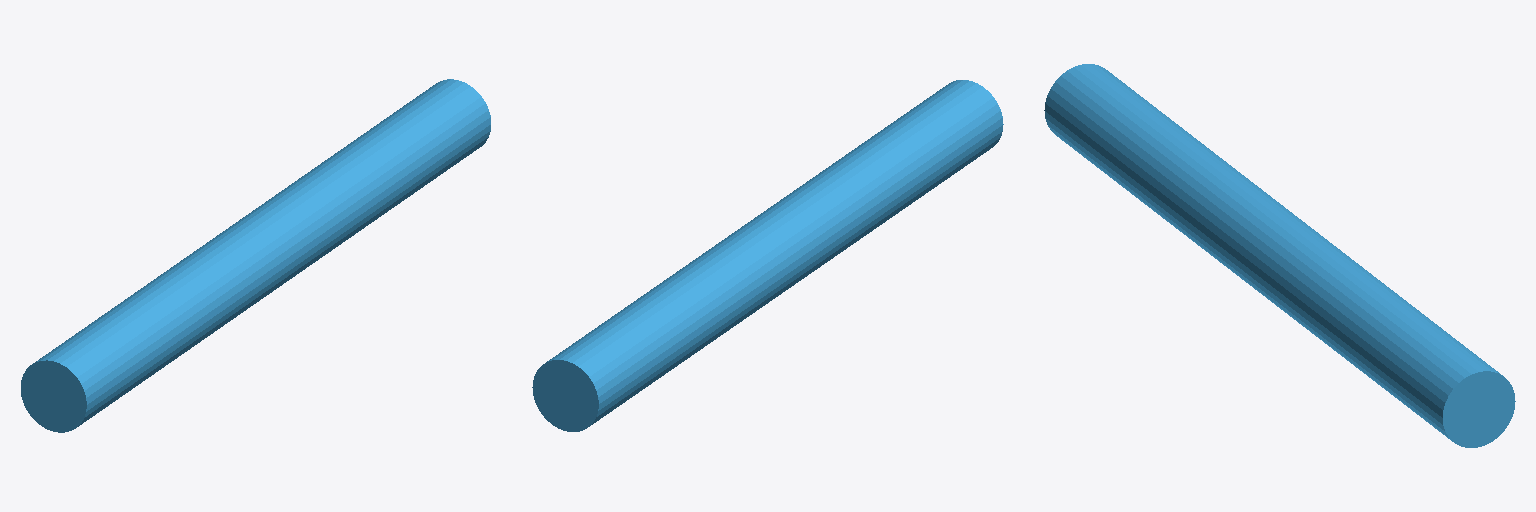
robot.urdf — simple_cylinder:
<robot name="simple_cylinder">
  <link name="world"/>
  <joint name="my_cylinder_joint" type="continuous" >
    <!-- axis is in the parent link frame coordintates -->
    <axis xyz="0 1 0" />
    <parent link="world" />
    <child link="my_cylinder" />
    <!-- initial pose of my_cylinder in the parent frame coordiantes -->
    <origin xyz="0 0 2" rpy="0 1.57 0.5" />
  </joint>
  <link name="my_cylinder">
    <inertial>
      <mass value="1.0" />
      <!-- center of mass (com) is defined w.r.t. link local coordinate system -->
      <origin xyz="0 0 0.5" /> 
      <inertia  ixx="1.0" ixy="0.0"  ixz="0.0"  iyy="100.0"  iyz="0.0"  izz="1.0" />
    </inertial>
    <visual>
      <!-- visual origin is defined w.r.t. link local coordinate system -->
      <origin xyz="0 0 0.5" rpy="0 0 0" />
      <geometry>
        <cylinder radius="0.05" length="1.0" />
      </geometry>
    </visual>
    <collision>
      <!-- collision origin is defined w.r.t. link local coordinate system -->
      <origin xyz="0 0 0.5" rpy="0 0 0 " />
      <geometry>
        <cylinder radius="0.05" length="1.0" />
      </geometry>
    </collision>
  </link>
  <gazebo reference="my_cylinder">
    <material>Gazebo/Blue</material>
    <turnGravityOff>false</turnGravityOff>
  </gazebo>
</robot>

--- What the picture shows (computed from the rendered views, not written in the file) ---
The picture shows the robot from 3 angles, left to right: view 1: azimuth 30°, elevation 25°; view 2: azimuth 210°, elevation 25°; view 3: azimuth 270°, elevation 25°; orthographic projection.
Model simple_cylinder with 2 links and 1 joints (1 continuous), rooted at world, posed every joint at zero.
Visible links, largest first — view 1: my_cylinder; view 2: my_cylinder; view 3: my_cylinder.
Link boxes in pixels (box(x1,y1,x2,y2)): my_cylinder: box(21, 79, 490, 432); my_cylinder: box(532, 80, 1003, 431); my_cylinder: box(1044, 64, 1515, 447).
Size in the robot's own frame: 0.9255 by 0.5672 by 0.1008 metres.
Geometry: primitives only (box / cylinder / sphere), no mesh files.